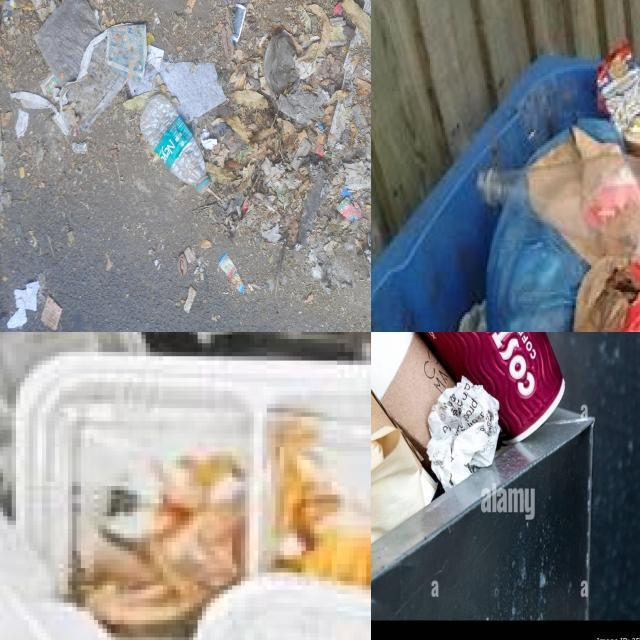Disposable: (16, 353, 371, 631), (423, 332, 564, 443)
Garbage: (0, 332, 371, 640), (457, 41, 640, 332), (371, 332, 563, 543)
Plastic: (177, 254, 188, 276)
Plastic_Bag: (486, 187, 590, 332), (35, 0, 126, 131), (263, 32, 299, 94)
Plastic_bottle: (477, 152, 640, 265), (141, 93, 210, 194)
Plastic_wraper: (105, 24, 147, 82), (219, 254, 244, 293), (231, 3, 247, 44), (328, 17, 347, 47), (337, 199, 362, 221), (40, 74, 59, 98), (353, 104, 368, 133), (316, 126, 324, 157)
Tetrapack: (597, 39, 640, 133)
